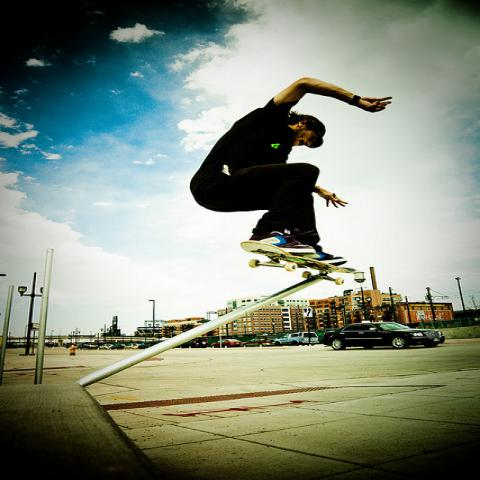car: (322, 322, 444, 351), (274, 332, 318, 347), (243, 338, 275, 348), (210, 339, 243, 348), (190, 337, 209, 348), (78, 341, 99, 349), (123, 341, 141, 350), (142, 342, 159, 349), (110, 344, 126, 350), (98, 344, 113, 349)
